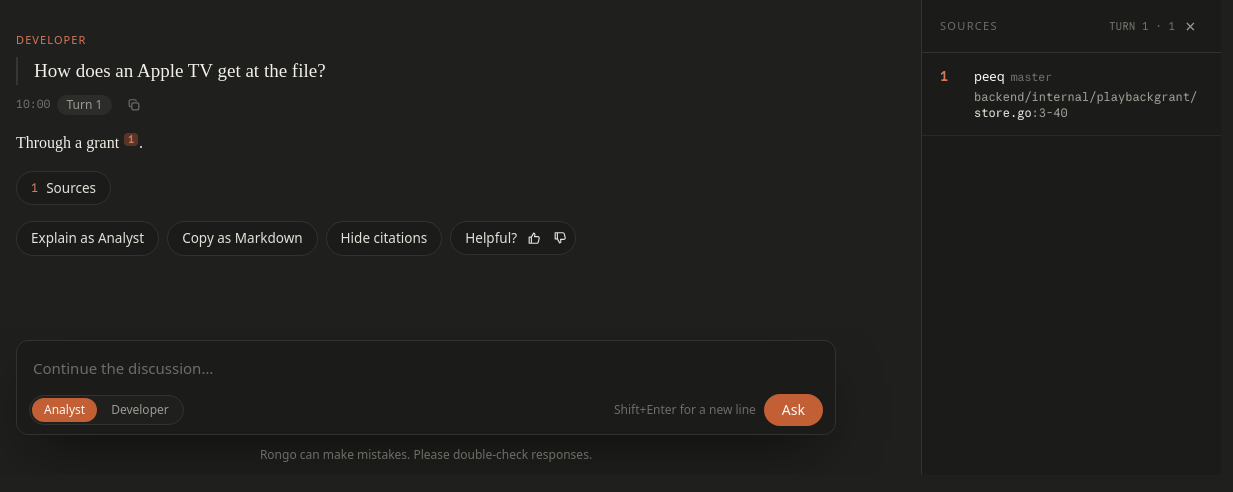
Test: Ask, a stored thread › copies the question as it was typed, from the question's own control
Click the button named "Copy the question".
click(134, 105)  # box [120,91,148,119]
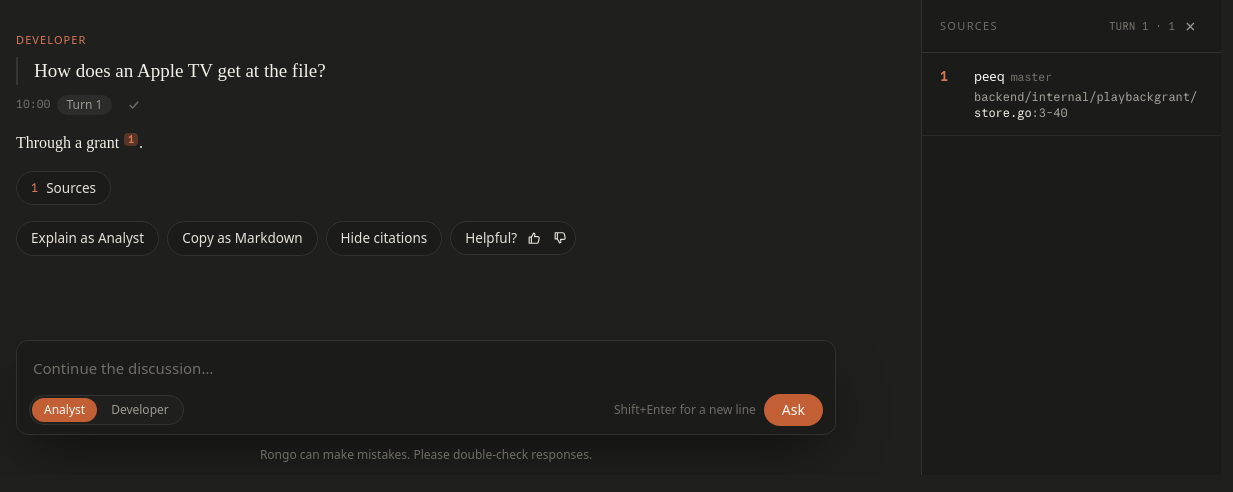
Expected: the button named "Question copied" is shown, [120,91,148,119]
